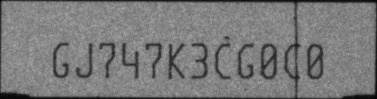0: (307, 42, 325, 80), (259, 43, 277, 80)
3: (189, 41, 208, 79)
4: (122, 42, 141, 79)
7: (145, 41, 162, 79), (98, 41, 115, 78)
C: (282, 42, 301, 80), (214, 42, 230, 80)
G: (237, 42, 255, 79), (52, 42, 70, 78)
J: (75, 40, 92, 78)
K: (167, 42, 186, 79)
